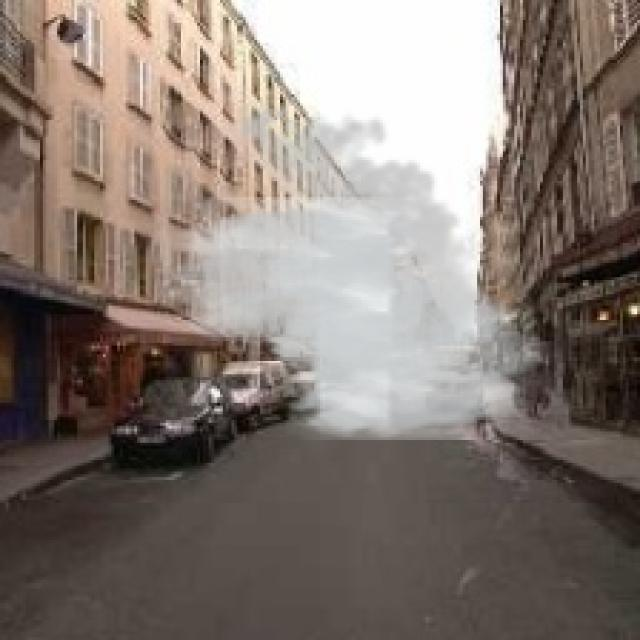smoke: (146, 94, 563, 440)
